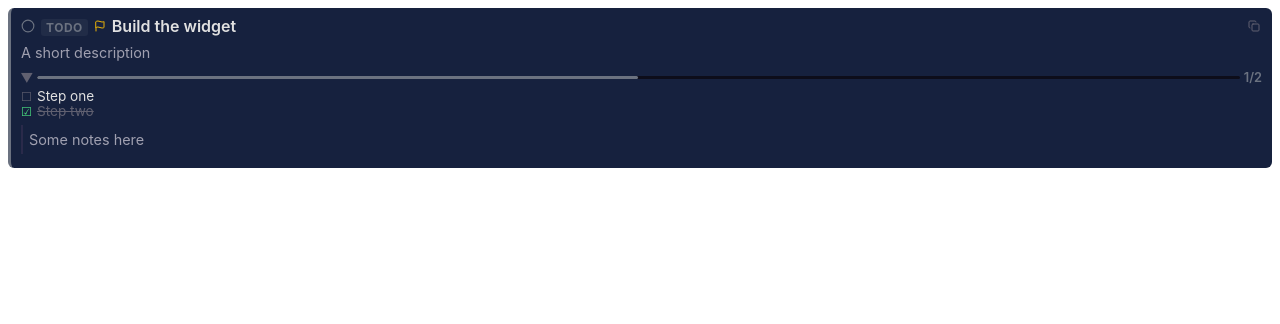
Test: TaskCard edit-in-place › description field › clicking description text enters edit mode
Click the text "A short description" at (86, 52), box [21, 44, 150, 61]
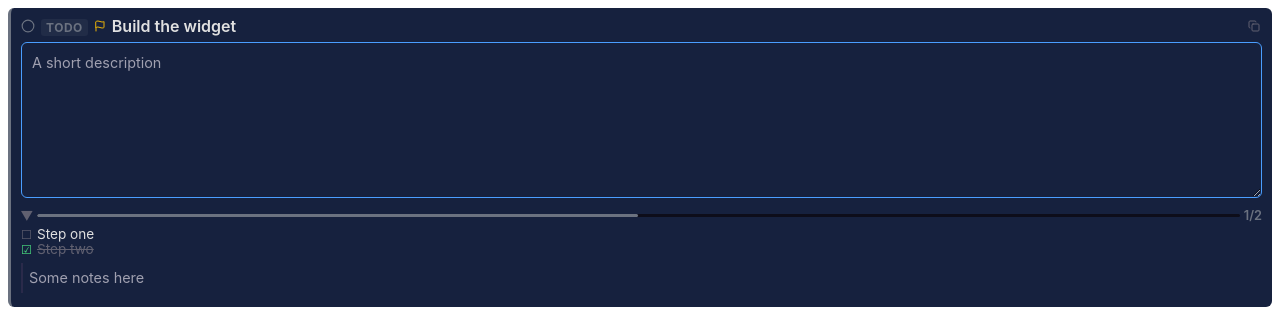
Expected: the text box holds "A short description", [21, 42, 1262, 198]
